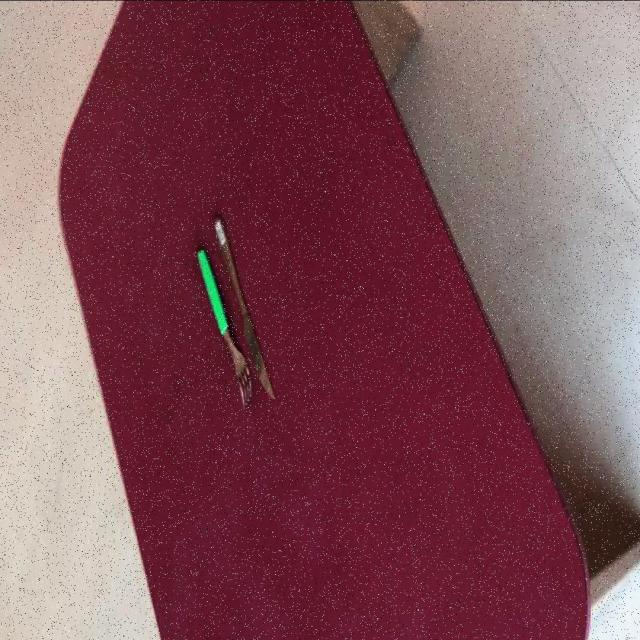Fork: (195, 245, 253, 408)
Knife: (213, 213, 276, 398)
